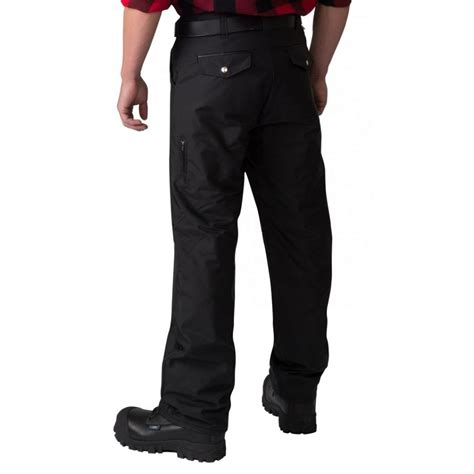nylon: (159, 14, 335, 421)
